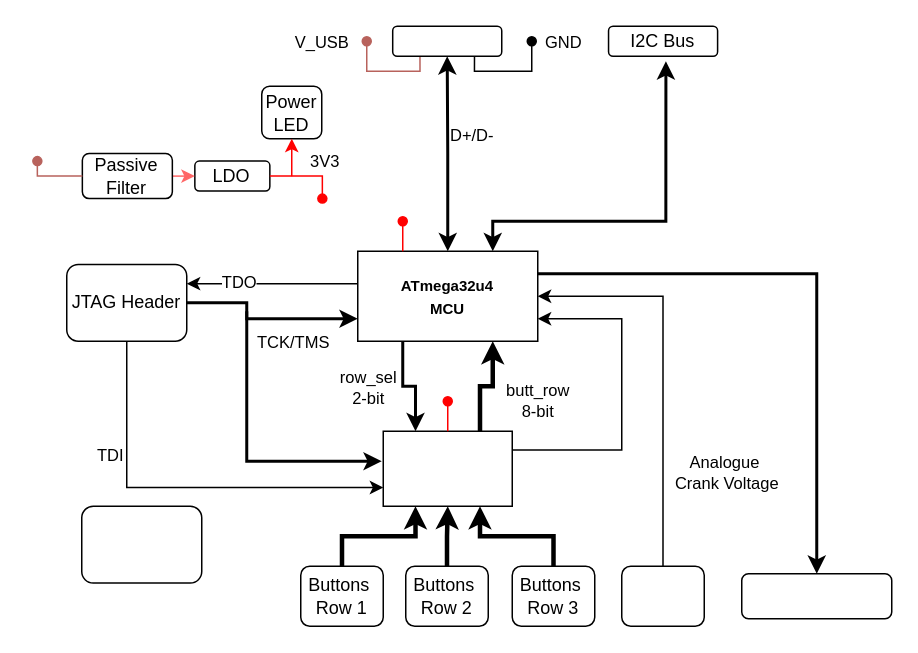
This 918x653 diagram has some shape labels left out. Here are the shapes that lost their labels. From the top down, the box of each, then its label:
(391, 25, 502, 56): USB
(382, 430, 512, 506): XC9572XL CPLD Button MUX
(80, 505, 202, 583): ICSP Header
(620, 565, 704, 626): Motor Crank
(740, 572, 892, 619): Stat LED Trompet LED
